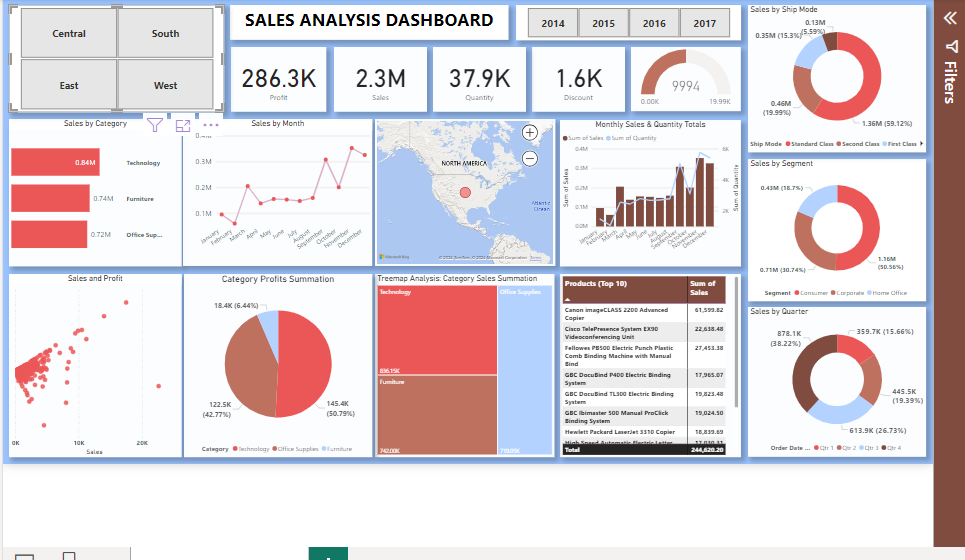

The dashboard page shown, as its layout file describes it:
{"tool":"powerbi","page":{"name":"Sales Analysis Dashboard","canvas":[2000,1000],"ordinal":0},"visuals":[{"type":"barChart","title":"Sales by Category","fields":{"Y":["Sum(sample_-_superstore xls - Orders.Sales)"],"Category":["sample_-_superstore xls - Orders.Category"]},"box":[12.4,258.1,370.9,316.8],"z":0},{"type":"lineChart","title":"Sales by Month","fields":{"Y":["Sum(sample_-_superstore xls - Orders.Sales)"],"Category":["sample_-_superstore xls - Orders.Order Date.Variation.Date Hierarchy.Month"]},"box":[388.1,257.7,407.1,316.3],"z":1000},{"type":"scatterChart","fields":{"X":["sample_-_superstore xls - Orders.Sales"],"Y":["sample_-_superstore xls - Orders.Profit"]},"box":[12.4,590.4,370.9,394.1],"z":2000},{"type":"pieChart","title":"Sales by Segment","fields":{"Category":["sample_-_superstore xls - Orders.Segment"],"Y":["Sum(sample_-_superstore xls - Orders.Sales)"]},"box":[1602.5,343.3,383.4,306.4],"z":3000},{"type":"map","title":"Sales by Country","fields":{"Category":["sample_-_superstore xls - Orders.Country"],"Size":["Sum(sample_-_superstore xls - Orders.Sales)"]},"box":[799,258,388.1,316.1],"z":4000},{"type":"slicer","fields":{"Values":["sample_-_superstore xls - Orders.Order Date.Variation.Date Hierarchy.Year"]},"box":[1103.6,12.4,483.8,75.7],"z":5000},{"type":"lineClusteredColumnComboChart","title":"Monthly Sales & Quantity Totals","fields":{"Category":["sample_-_superstore xls - Orders.Order Date.Variation.Date Hierarchy.Month"],"Y":["Sum(sample_-_superstore xls - Orders.Sales)"],"Y2":["Sum(sample_-_superstore xls - Orders.Quantity)"]},"box":[1197.8,259.7,389.5,315.3],"z":6000},{"type":"tableEx","fields":{"Values":["sample_-_superstore xls - Orders.Product Name","Sum(sample_-_superstore xls - Orders.Sales)"]},"box":[1197.8,590.4,389.5,394.1],"z":7000},{"type":"textbox","box":[488.3,12.5,599.4,75.1],"z":8000},{"type":"card","fields":{"Values":["Sum(sample_-_superstore xls - Orders.Profit)"]},"box":[489.8,103.3,205,139.3],"z":9000},{"type":"card","fields":{"Values":["Sum(sample_-_superstore xls - Orders.Sales)"]},"box":[712.1,103.3,200.3,139.3],"z":10000},{"type":"card","fields":{"Values":["Sum(sample_-_superstore xls - Orders.Discount)"]},"box":[1137.7,103.3,200.3,139.3],"z":11000},{"type":"gauge","fields":{"Y":["CountNonNull(sample_-_superstore xls - Orders.Row ID)"]},"box":[1350.9,103.6,236.5,137.6],"z":12000},{"type":"slicer","fields":{"Values":["sample_-_superstore xls - Orders.Region"]},"box":[12.7,12.7,463.3,230.7],"z":13000},{"type":"card","fields":{"Values":["Sum(sample_-_superstore xls - Orders.Quantity)"]},"box":[924.9,103.3,200.3,139.3],"z":14000},{"type":"treemap","title":"Treemap Analysis: Category Sales Summation","fields":{"Values":["Sum(sample_-_superstore xls - Orders.Sales)"],"Group":["sample_-_superstore xls - Orders.Category"]},"box":[800.6,590.4,386.4,394.1],"z":15000},{"type":"pieChart","title":"Category Profits Summation","fields":{"Category":["sample_-_superstore xls - Orders.Category"],"Y":["Sum(sample_-_superstore xls - Orders.Profit)"]},"box":[389.5,590.4,404.9,394.1],"z":16000},{"type":"donutChart","title":"Sales by Ship Mode","fields":{"Y":["Sum(sample_-_superstore xls - Orders.Sales)"],"Category":["sample_-_superstore xls - Orders.Ship Mode"]},"box":[1602.5,12.7,383.4,317],"z":17000},{"type":"donutChart","title":"Sales by Quarter","fields":{"Y":["Sum(sample_-_superstore xls - Orders.Sales)"],"Category":["sample_-_superstore xls - Orders.Order Date.Variation.Date Hierarchy.Quarter"]},"box":[1602.5,663.2,383.4,321.6],"z":18000}]}

Visuals, with their boxes in screenshot pixels (x1, y1, x2, y2):
"Sales by Category" barChart: (left=13, top=118, right=183, bottom=264)
"Sales by Month" lineChart: (left=186, top=118, right=373, bottom=263)
scatterChart - sample_-_superstore xls - Orders.Sales x sample_-_superstore xls - Orders.Profit: (left=13, top=271, right=183, bottom=452)
"Sales by Segment" pieChart: (left=743, top=158, right=919, bottom=298)
"Sales by Country" map: (left=374, top=118, right=552, bottom=263)
slicer - sample_-_superstore xls - Orders.Order Date.Variation.Date Hierarchy.Year: (left=514, top=6, right=736, bottom=40)
"Monthly Sales & Quantity Totals" lineClusteredColumnComboChart: (left=557, top=119, right=736, bottom=264)
tableEx - sample_-_superstore xls - Orders.Product Name x Sum(sample_-_superstore xls - Orders.Sales): (left=557, top=271, right=736, bottom=452)
textbox: (left=232, top=6, right=507, bottom=40)
card - Sum(sample_-_superstore xls - Orders.Profit): (left=232, top=47, right=326, bottom=111)
card - Sum(sample_-_superstore xls - Orders.Sales): (left=334, top=47, right=426, bottom=111)
card - Sum(sample_-_superstore xls - Orders.Discount): (left=530, top=47, right=622, bottom=111)
gauge - CountNonNull(sample_-_superstore xls - Orders.Row ID): (left=628, top=48, right=736, bottom=111)
slicer - sample_-_superstore xls - Orders.Region: (left=13, top=6, right=226, bottom=112)
card - Sum(sample_-_superstore xls - Orders.Quantity): (left=432, top=47, right=524, bottom=111)
"Treemap Analysis: Category Sales Summation" treemap: (left=375, top=271, right=552, bottom=452)
"Category Profits Summation" pieChart: (left=186, top=271, right=372, bottom=452)
"Sales by Ship Mode" donutChart: (left=743, top=6, right=919, bottom=151)
"Sales by Quarter" donutChart: (left=743, top=304, right=919, bottom=452)
